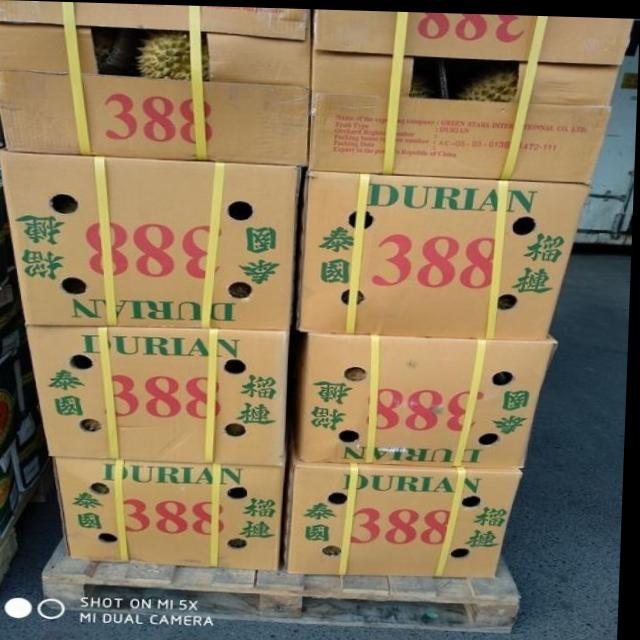box: (310, 8, 636, 182), (0, 149, 304, 329), (0, 0, 312, 166), (302, 169, 594, 336), (28, 326, 294, 465), (293, 330, 560, 466), (287, 445, 527, 575), (55, 457, 287, 570), (13, 401, 51, 492), (0, 266, 31, 366), (0, 356, 25, 461), (0, 446, 25, 545), (13, 339, 41, 414), (0, 166, 18, 276)
